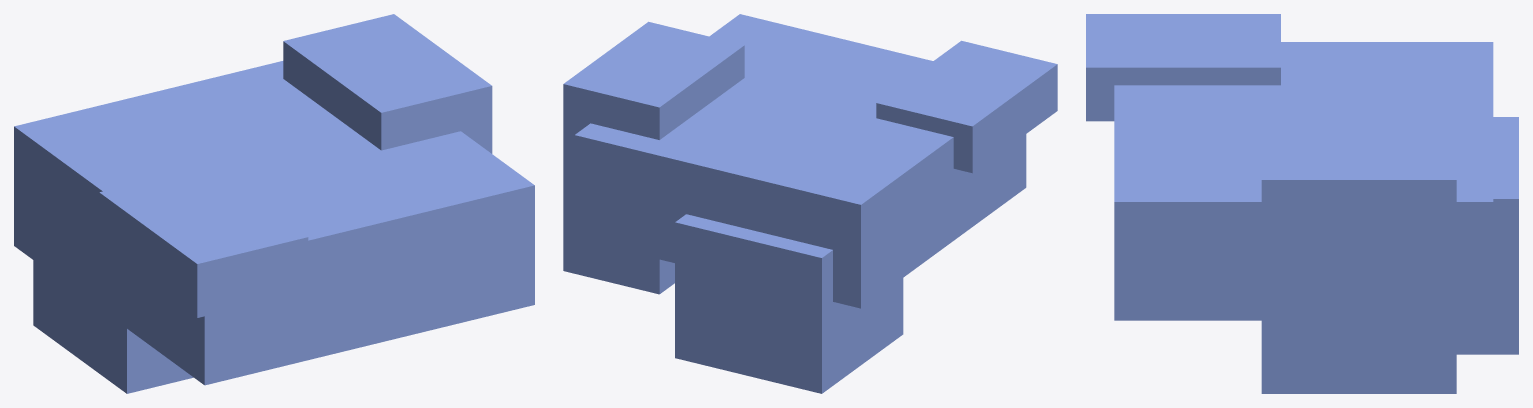
The model's file is floor1.fbx.
3 renders of one model, left to right at view 1: azimuth 30°, elevation 25°; view 2: azimuth 150°, elevation 25°; view 3: azimuth 270°, elevation 25°, orthographic. The views are drawn at different scales.
Parts seen in each view (by area): view 1: Cube, Cube.002, Cube.001, Cube.003; view 2: Cube, Cube.003, Cube.001, Cube.002; view 3: Cube, Cube.001, Cube.002, Cube.003.
Part boxes in pixels (left/top/right/bottom): Cube: left=14, top=61, right=534, bottom=385; Cube.002: left=99, top=165, right=308, bottom=317; Cube.001: left=283, top=14, right=492, bottom=153; Cube.003: left=33, top=260, right=193, bottom=393; Cube: left=574, top=14, right=1026, bottom=308; Cube.003: left=675, top=214, right=903, bottom=393; Cube.001: left=563, top=21, right=744, bottom=294; Cube.002: left=876, top=40, right=1057, bottom=173; Cube: left=1114, top=42, right=1493, bottom=320; Cube.001: left=1261, top=126, right=1456, bottom=393; Cube.002: left=1086, top=14, right=1280, bottom=121; Cube.003: left=1456, top=117, right=1518, bottom=354.
Size of the model in its own units: 116 by 73.5 by 114.
